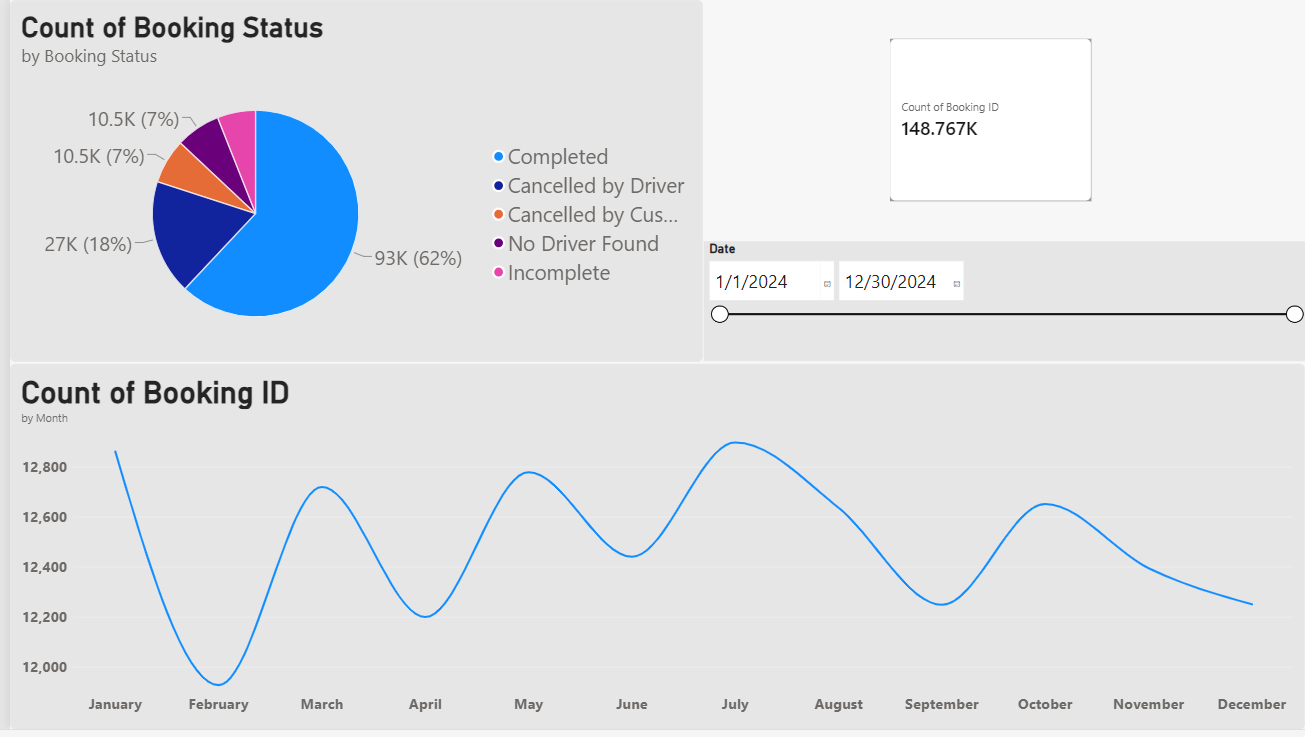

Layout of this report page (visuals, bound fields, positions):
{"tool":"powerbi","page":{"name":"Overall","canvas":[1920,1080],"ordinal":2},"visuals":[{"type":"lineChart","fields":{"Category":["rideBookings.Date.Variation.Date Hierarchy.Month"],"Y":["CountNonNull(rideBookings.Booking ID)"]},"box":[0,539.3,1918.4,541.3],"z":0},{"type":"pieChart","fields":{"Category":["rideBookings.Booking Status"],"Y":["CountNonNull(rideBookings.Booking Status)"]},"box":[0,0,1026.1,535.7],"z":1000},{"type":"cardVisual","fields":{"Data":["Count(rideBookings.Booking ID)"]},"box":[1335.9,57.6,308.7,240.8],"z":2000},{"type":"slicer","fields":{"Values":["rideBookings.Date"]},"box":[1027.1,358.1,891.3,177],"z":3000}]}

Visuals, with their boxes in screenshot pixels (x1, y1, x2, y2), scaled from the page's 1920x1080 canvas onto the 1305x737 screenshot:
lineChart - rideBookings.Date.Variation.Date Hierarchy.Month x CountNonNull(rideBookings.Booking ID): [0,368,1304,736]
pieChart - rideBookings.Booking Status x CountNonNull(rideBookings.Booking Status): [0,0,697,366]
cardVisual - Count(rideBookings.Booking ID): [908,39,1118,204]
slicer - rideBookings.Date: [698,244,1304,365]
